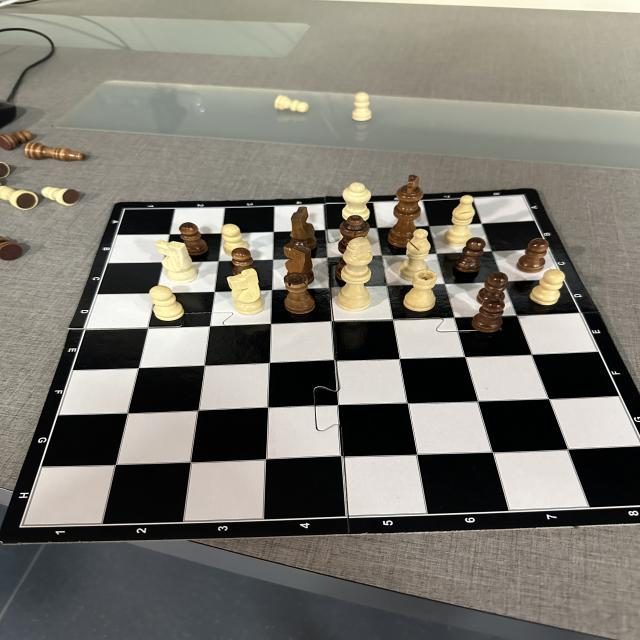Black-Bishop: (24, 142, 87, 162)
Black-King: (388, 174, 424, 248)
Black-Knight: (290, 206, 318, 250), (284, 242, 312, 273)
Black-Pawn: (516, 238, 550, 273), (454, 237, 486, 273), (472, 298, 505, 332), (476, 272, 508, 304), (179, 222, 209, 255), (231, 247, 256, 276), (0, 130, 33, 151)
Black-Queen: (338, 215, 370, 252)
Black-Rook: (283, 272, 316, 314)
White-Bishop: (398, 229, 432, 281), (444, 196, 475, 247)
White-King: (337, 237, 374, 312)
White-Knight: (154, 239, 198, 284), (226, 268, 265, 316)
White-Pawn: (529, 269, 565, 306), (149, 286, 185, 321), (222, 224, 248, 256), (40, 186, 81, 206), (274, 95, 309, 113), (352, 92, 372, 122)
White-Queen: (341, 182, 372, 218)
White-Rook: (403, 270, 438, 312)
